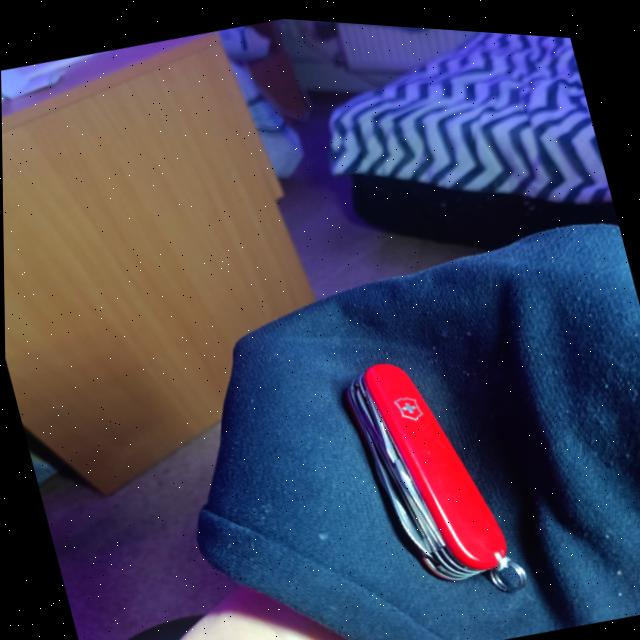knife victorinox: (344, 358, 524, 584)
